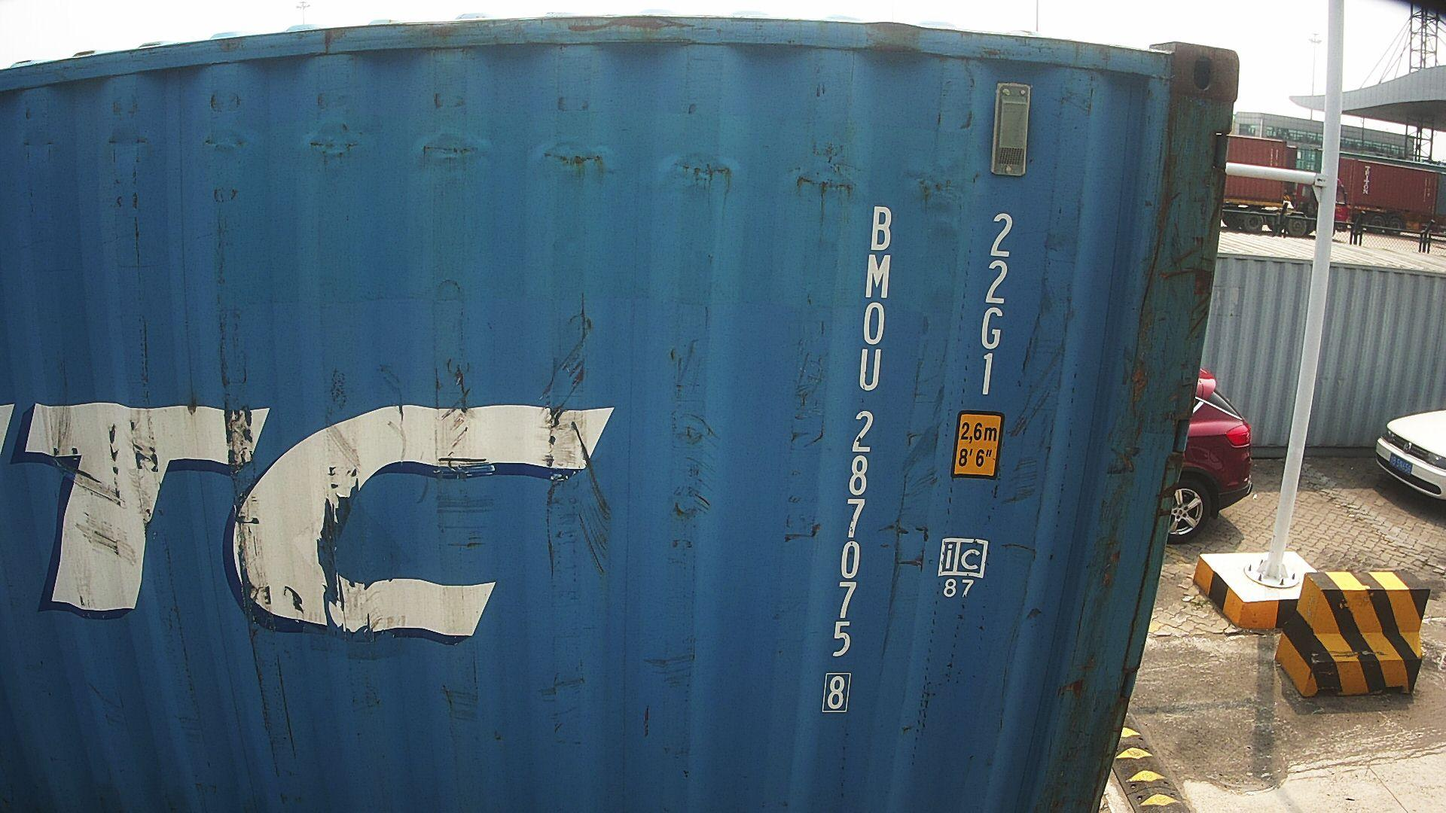container-numbers: (817, 199, 897, 717), (972, 209, 1016, 400)
